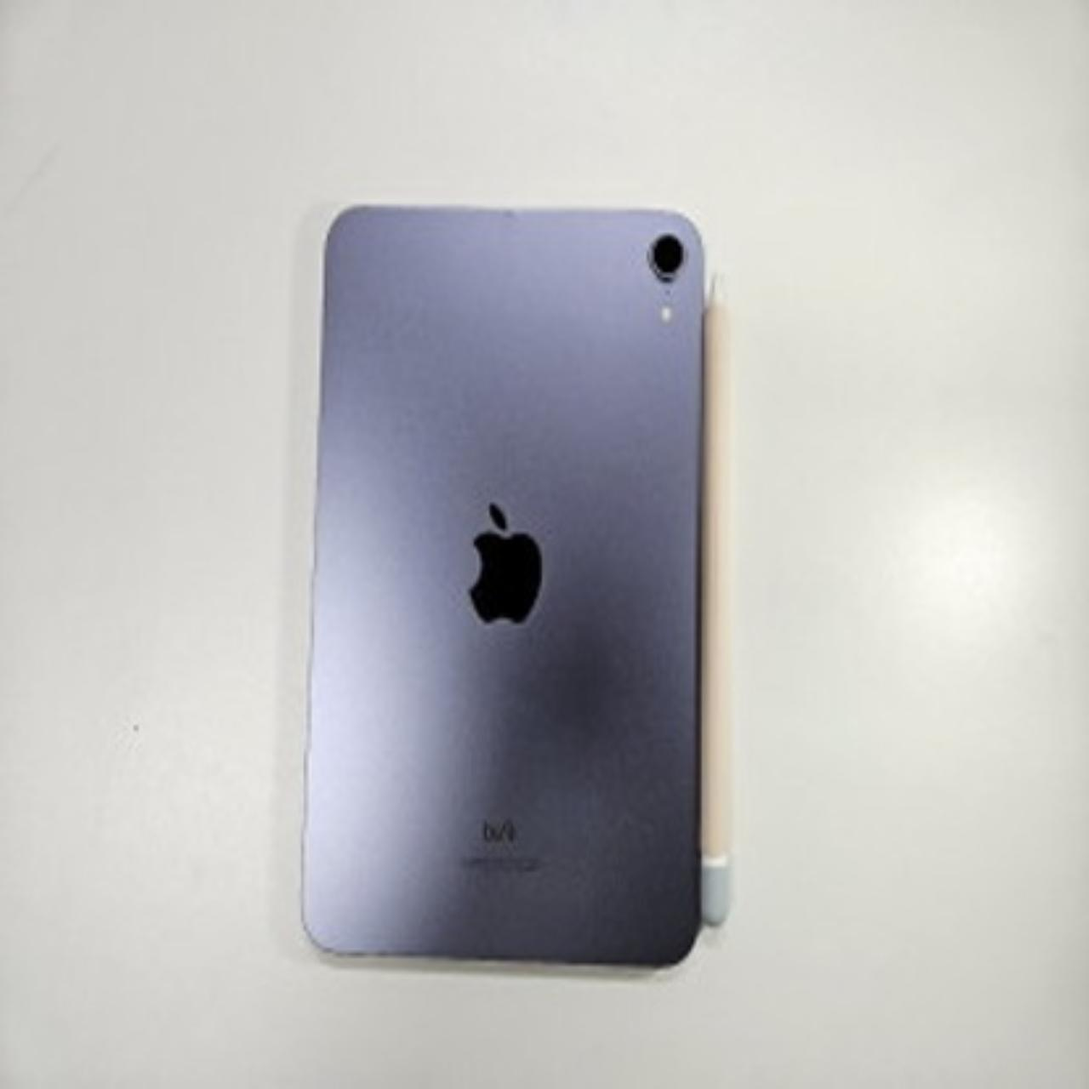Tablet_PC: (275, 194, 738, 987)
